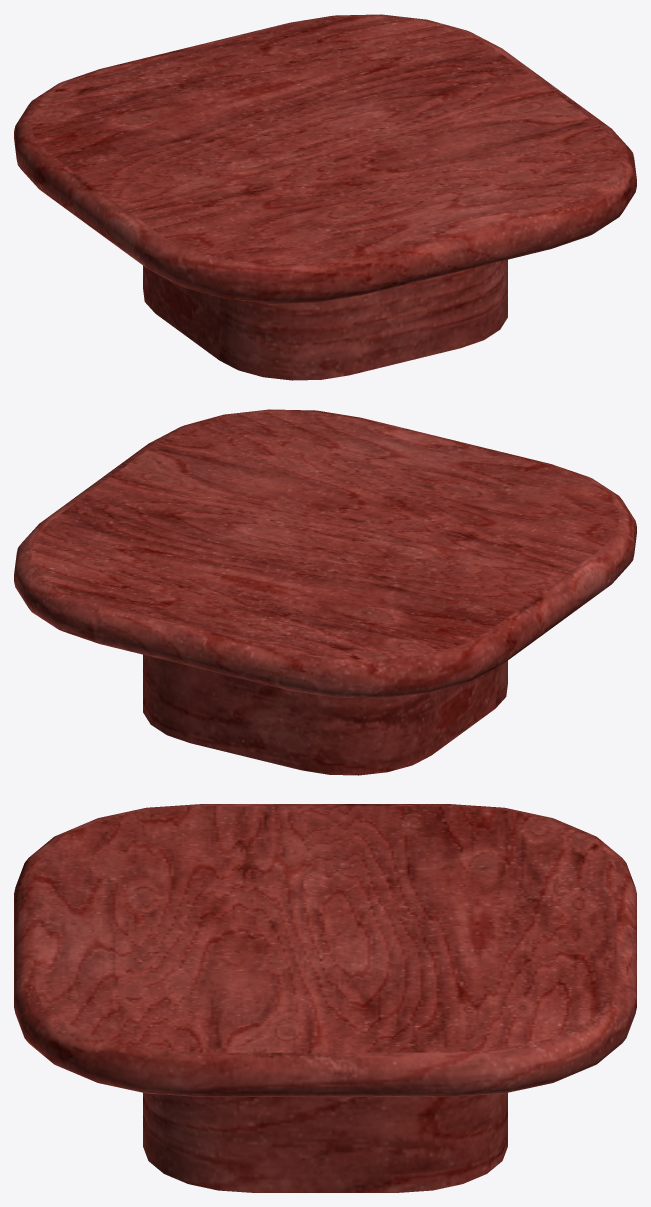
Rendered from CoffeeTable_Sq_Rough1.glb.
3 views of the same model, one above another, from view 1: azimuth 30°, elevation 25°; view 2: azimuth 150°, elevation 25°; view 3: azimuth 270°, elevation 25° (orthographic). The views are drawn at different scales.
Parts seen in each view (by area): view 1: Cube.007, Cube; view 2: Cube.007, Cube; view 3: Cube.007, Cube.
Boxes of the visible parts, <box> form: Cube.007: <box>14,14,636,303</box>; Cube: <box>143,259,507,380</box>; Cube.007: <box>14,409,636,698</box>; Cube: <box>143,654,507,775</box>; Cube.007: <box>14,804,636,1096</box>; Cube: <box>143,1093,507,1192</box>.
Size of the model in its own units: 1.53 by 0.5061 by 1.53.
Materials: 1 (1 with a texture image).
